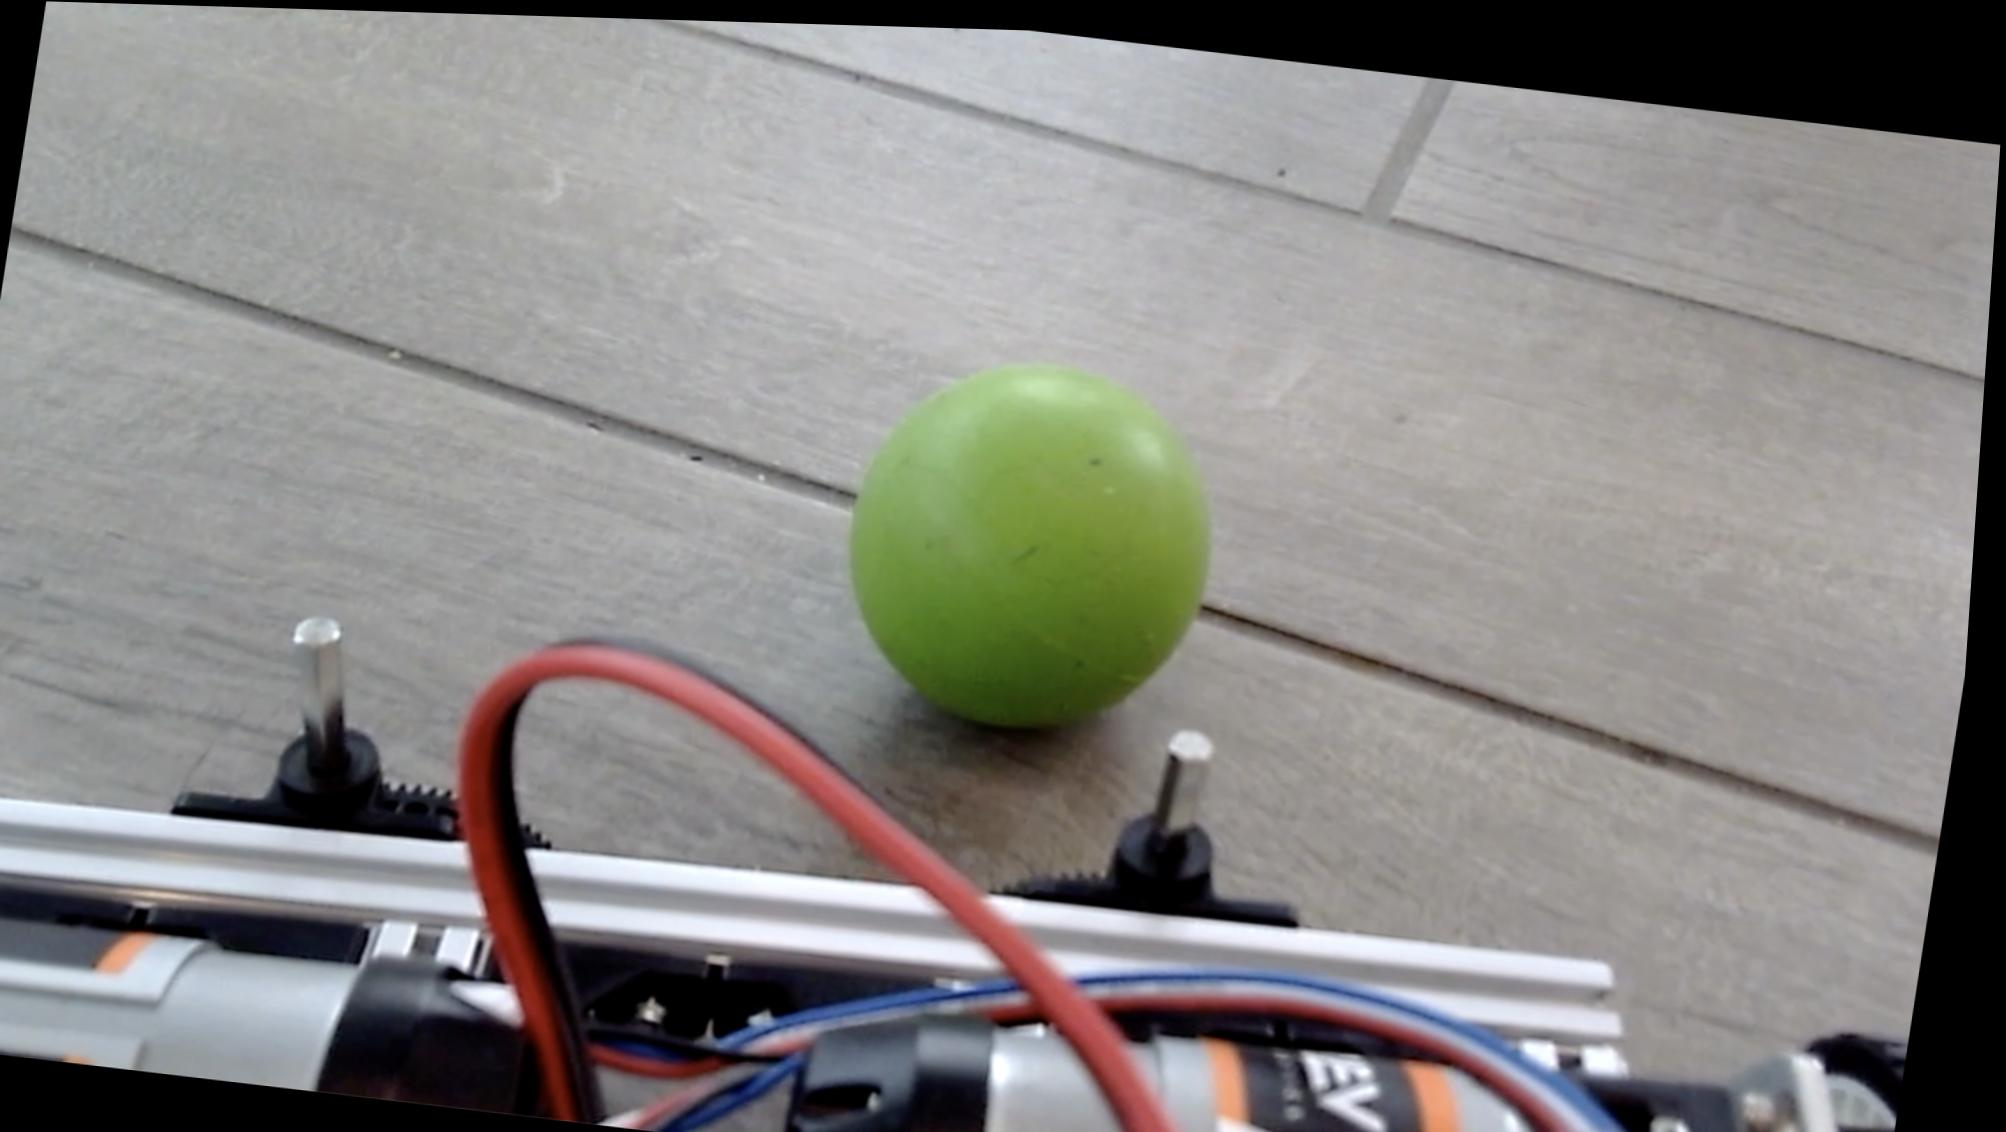greenball: (827, 332, 1247, 744)
